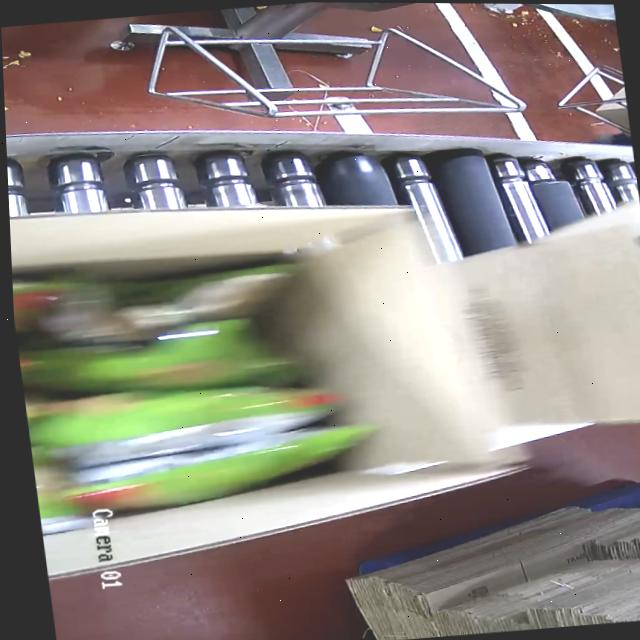YOGURT_HERB: (11, 258, 334, 522)
